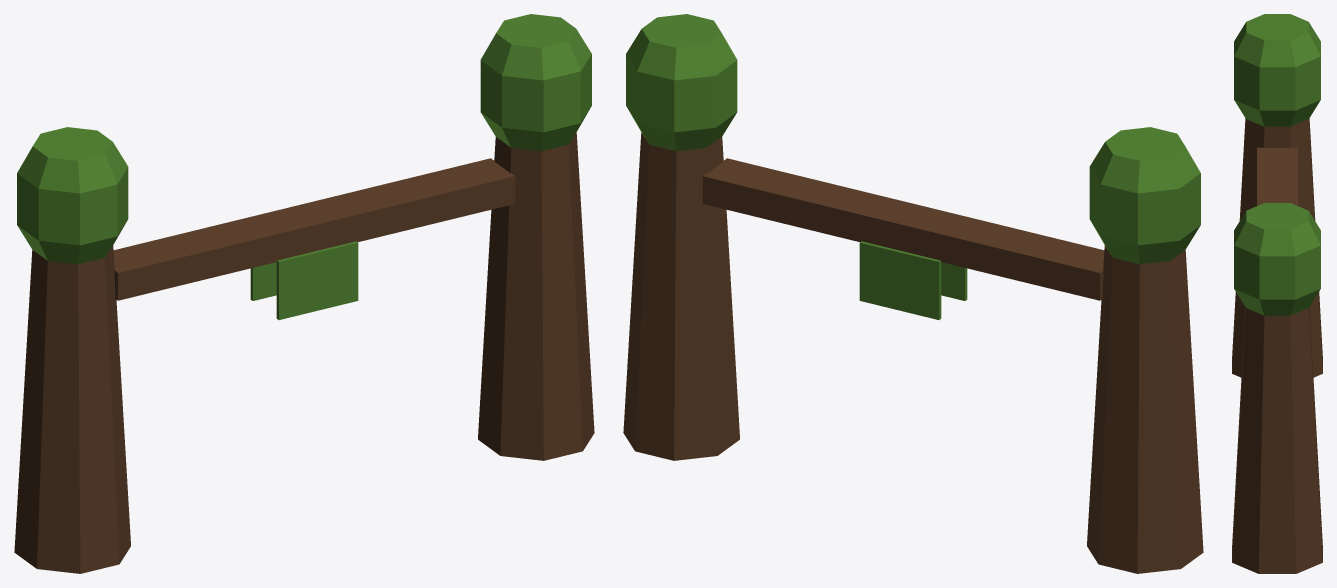
Rendered from elf_gate.glb.
3 views of the same model, side by side, from view 1: azimuth 30°, elevation 25°; view 2: azimuth 150°, elevation 25°; view 3: azimuth 270°, elevation 25° (orthographic). The views are drawn at different scales.
Visible parts, largest first — view 1: elf_gate; view 2: elf_gate; view 3: elf_gate.
Part boxes in pixels (x1,y1,x2,y2): elf_gate: (14, 14, 594, 573); elf_gate: (623, 14, 1203, 573); elf_gate: (1232, 14, 1322, 573).
Bounding box in the file's own units: 4.21 × 2.92 × 0.7114.
